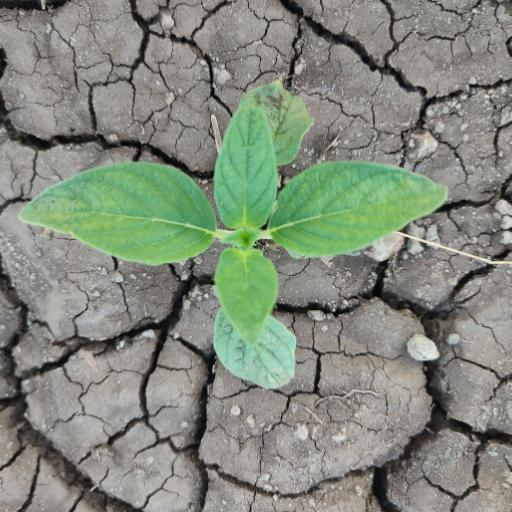crop: (28, 59, 458, 400)
